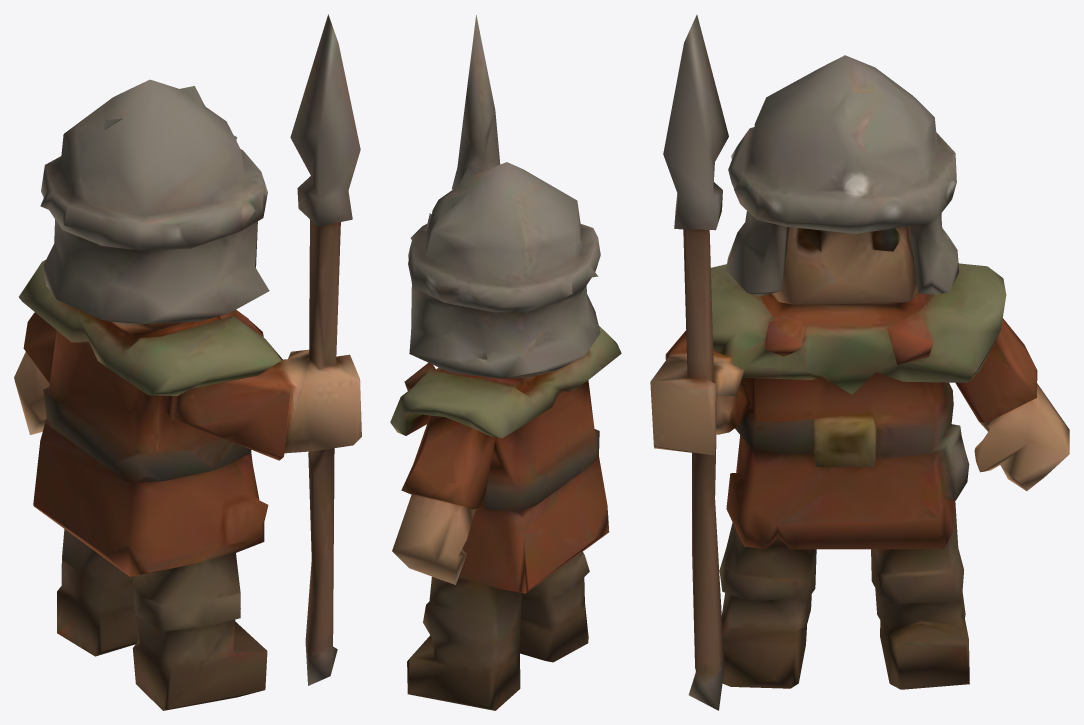
The model's file is raider.glb.
The picture shows the model from 3 angles, left to right: view 1: azimuth 30°, elevation 25°; view 2: azimuth 150°, elevation 25°; view 3: azimuth 270°, elevation 25°; orthographic projection. The views are drawn at different scales.
Visible parts, largest first — view 1: tripo_node_a368888d-a2e5-47ce-8695-02cd4beff4e3; view 2: tripo_node_a368888d-a2e5-47ce-8695-02cd4beff4e3; view 3: tripo_node_a368888d-a2e5-47ce-8695-02cd4beff4e3.
Boxes of the visible parts, x1,y1,x2,y2 form: tripo_node_a368888d-a2e5-47ce-8695-02cd4beff4e3: (14,14,361,710); tripo_node_a368888d-a2e5-47ce-8695-02cd4beff4e3: (390,15,621,710); tripo_node_a368888d-a2e5-47ce-8695-02cd4beff4e3: (650,14,1069,710).
Size of the model in its own units: 0.3547 by 1 by 0.5437.
Materials: 1 (1 with a texture image).
